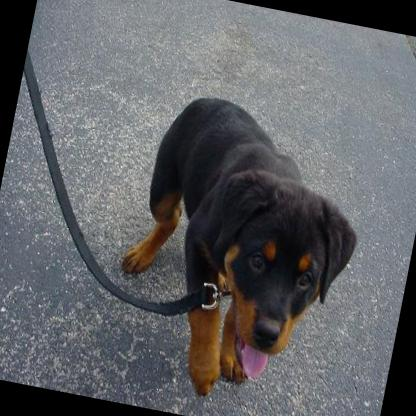Rottweiler: (93, 83, 380, 416)
